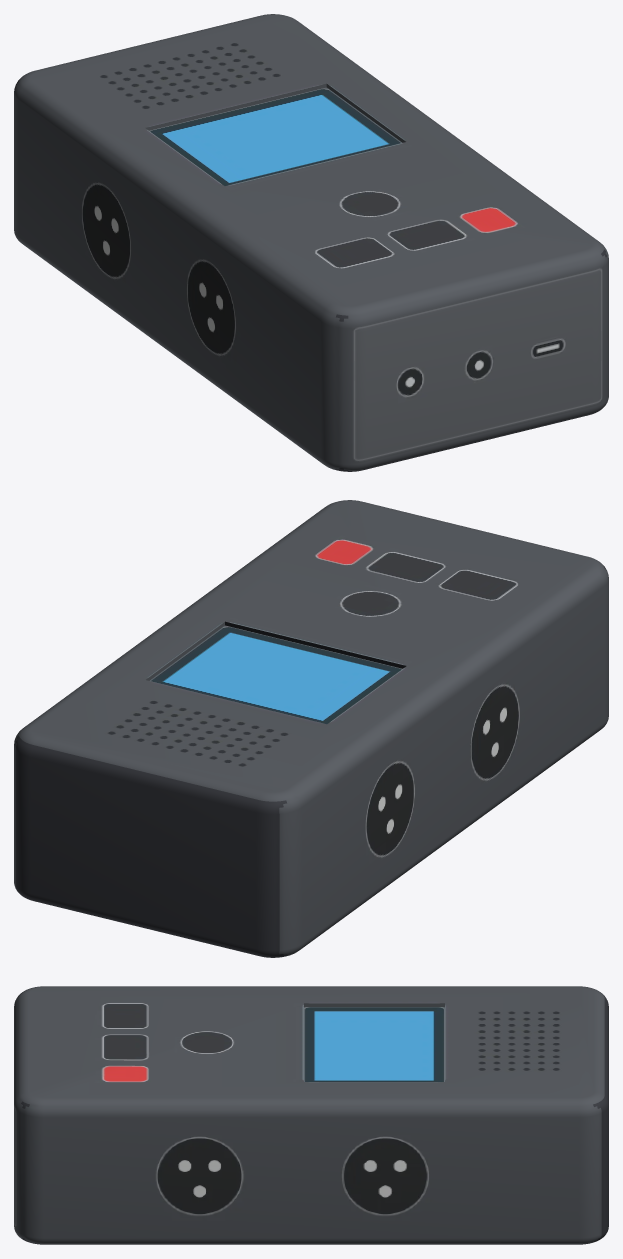
File: zoom-h6-essential.glb
The picture shows the model from 3 angles, top to bottom: view 1: azimuth 30°, elevation 25°; view 2: azimuth 150°, elevation 25°; view 3: azimuth 270°, elevation 25°; orthographic projection. The views are drawn at different scales.
Parts seen in each view (by area): view 1: zoom-h6-essential-body; view 2: zoom-h6-essential-body; view 3: zoom-h6-essential-body.
Part boxes in pixels (left/top/right/bottom): zoom-h6-essential-body: left=14, top=14, right=608, bottom=471; zoom-h6-essential-body: left=14, top=500, right=608, bottom=957; zoom-h6-essential-body: left=14, top=986, right=608, bottom=1244.
Bounding box in the file's own units: 0.0781 × 0.0428 × 0.1601.
Materials: 1 (1 with a texture image).
